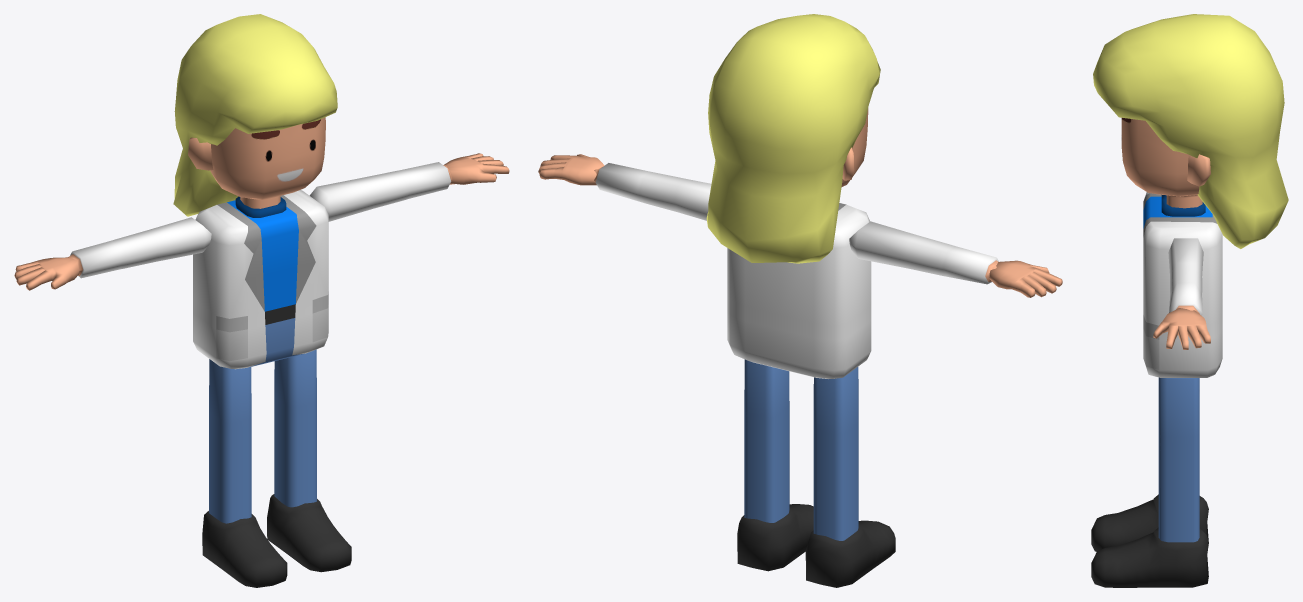
File: NPC_White01_BlondeHair02.gltf
The picture shows the model from 3 angles, left to right: view 1: azimuth 30°, elevation 25°; view 2: azimuth 150°, elevation 25°; view 3: azimuth 270°, elevation 25°; orthographic projection. The views are drawn at different scales.
Parts seen in each view (by area): view 1: NPC_Corpo_White1_BlondeHair.002; view 2: NPC_Corpo_White1_BlondeHair.002; view 3: NPC_Corpo_White1_BlondeHair.002.
Part boxes in pixels (x1,y1,x2,y2): NPC_Corpo_White1_BlondeHair.002: (14, 14, 509, 587); NPC_Corpo_White1_BlondeHair.002: (538, 14, 1062, 587); NPC_Corpo_White1_BlondeHair.002: (1091, 14, 1288, 587).
Size of the model in its own units: 2.31 by 2.33 by 0.7777.
1 material, 1 textured.
